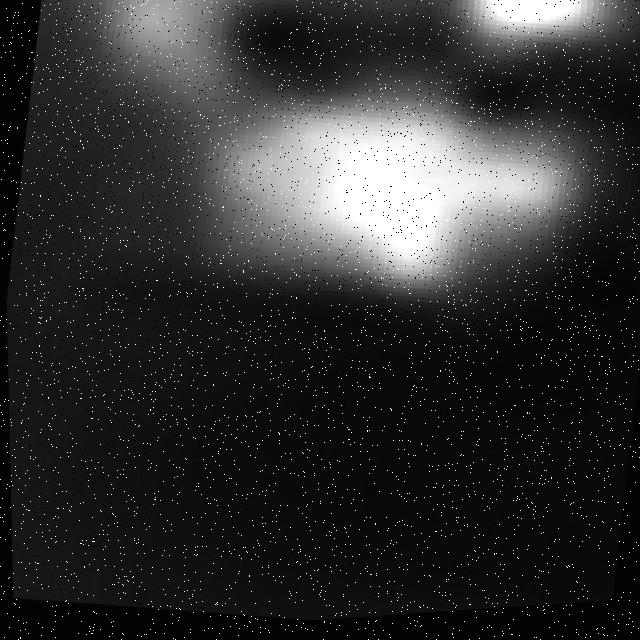person: (112, 31, 640, 330), (99, 1, 640, 93)
